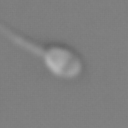normal: (1, 19, 45, 55)
